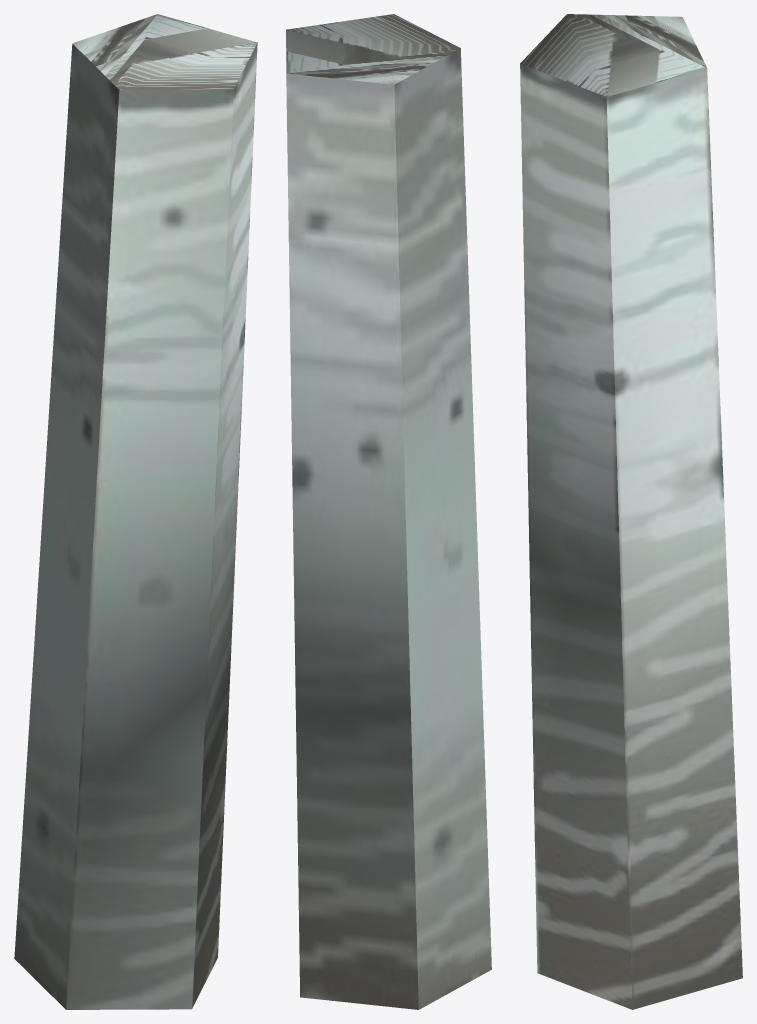
Rendered from tree_trunk.glb.
3 renders of one model, left to right at view 1: azimuth 30°, elevation 25°; view 2: azimuth 150°, elevation 25°; view 3: azimuth 270°, elevation 25°, orthographic. The views are drawn at different scales.
Visible parts, largest first — view 1: TreeTrunk; view 2: TreeTrunk; view 3: TreeTrunk.
Part boxes in pixels (x1=…): TreeTrunk: x1=14, y1=14, x2=257, y2=1009; TreeTrunk: x1=286, y1=14, x2=491, y2=1009; TreeTrunk: x1=520, y1=14, x2=742, y2=1009.
Size of the model in its own units: 0.5342 by 2.36 by 0.5104.
Materials: 1 (1 with a texture image).
